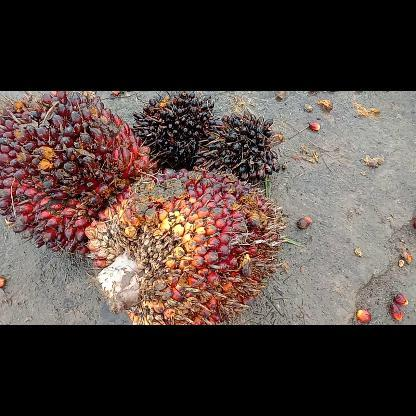TBS abnormal: (190, 107, 284, 181), (130, 91, 216, 169)
TBS masak: (82, 166, 290, 324), (0, 91, 159, 260)
